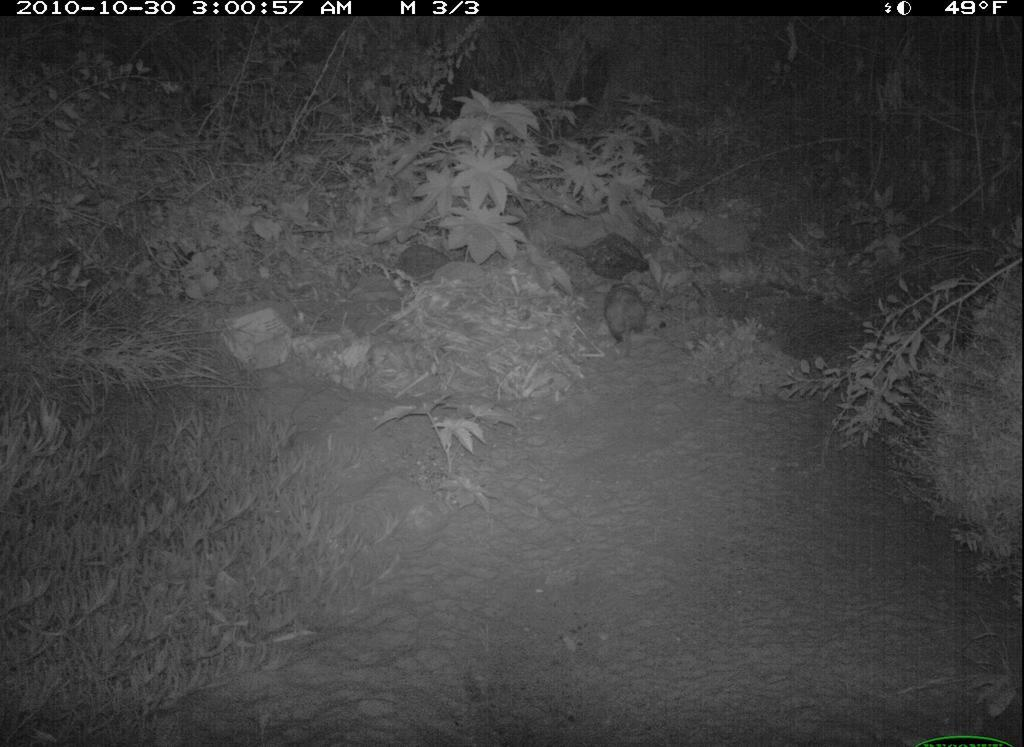opossum: (589, 278, 671, 354)
